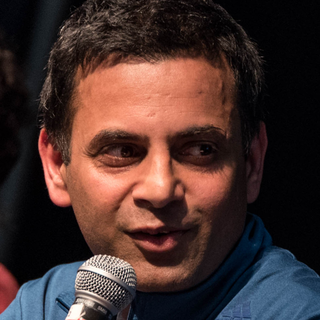eye: (90, 139, 149, 163), (178, 138, 223, 162)
